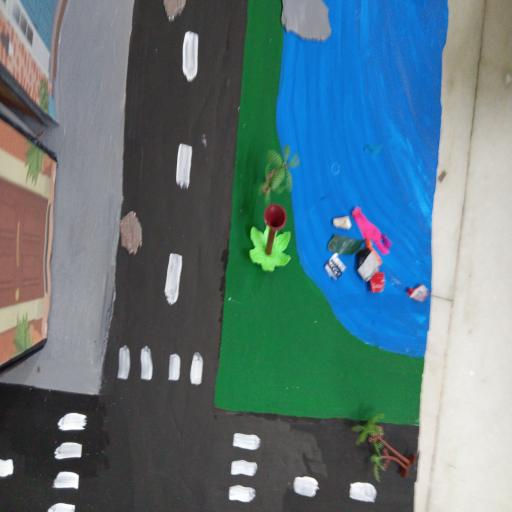encroachment: (278, 0, 335, 44)
fallen trees: (352, 413, 420, 487), (248, 202, 296, 276)
porthole: (119, 204, 146, 260), (160, 0, 188, 22)
trash: (326, 206, 432, 313)
